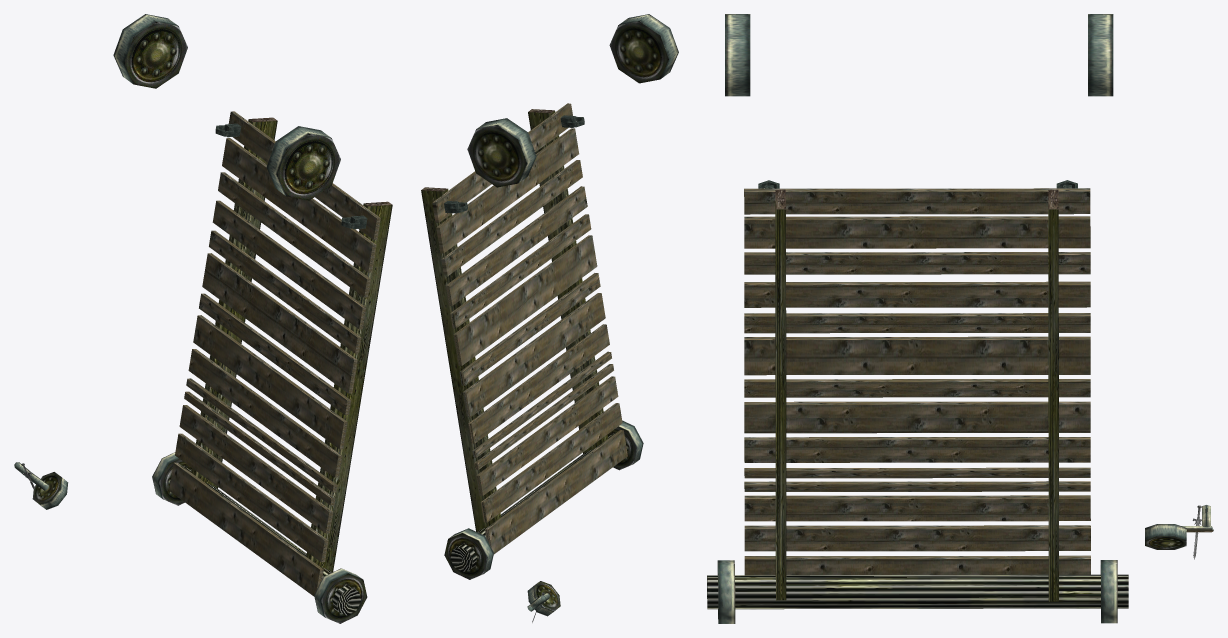
The model's file is BRIDGE_FALLING.fbx.
3 renders of one model, left to right at view 1: azimuth 30°, elevation 25°; view 2: azimuth 150°, elevation 25°; view 3: azimuth 270°, elevation 25°, orthographic. The views are drawn at different scales.
Parts seen in each view (by area): view 1: BRIDGE_FALLING; view 2: BRIDGE_FALLING; view 3: BRIDGE_FALLING.
Boxes of the visible parts, x1,y1,x2,y2 form: BRIDGE_FALLING: [14, 14, 392, 623]; BRIDGE_FALLING: [421, 14, 678, 622]; BRIDGE_FALLING: [707, 14, 1213, 623].
Bounding box in the file's own units: 67566 × 162720 × 127376.
8 materials, 8 textured.
